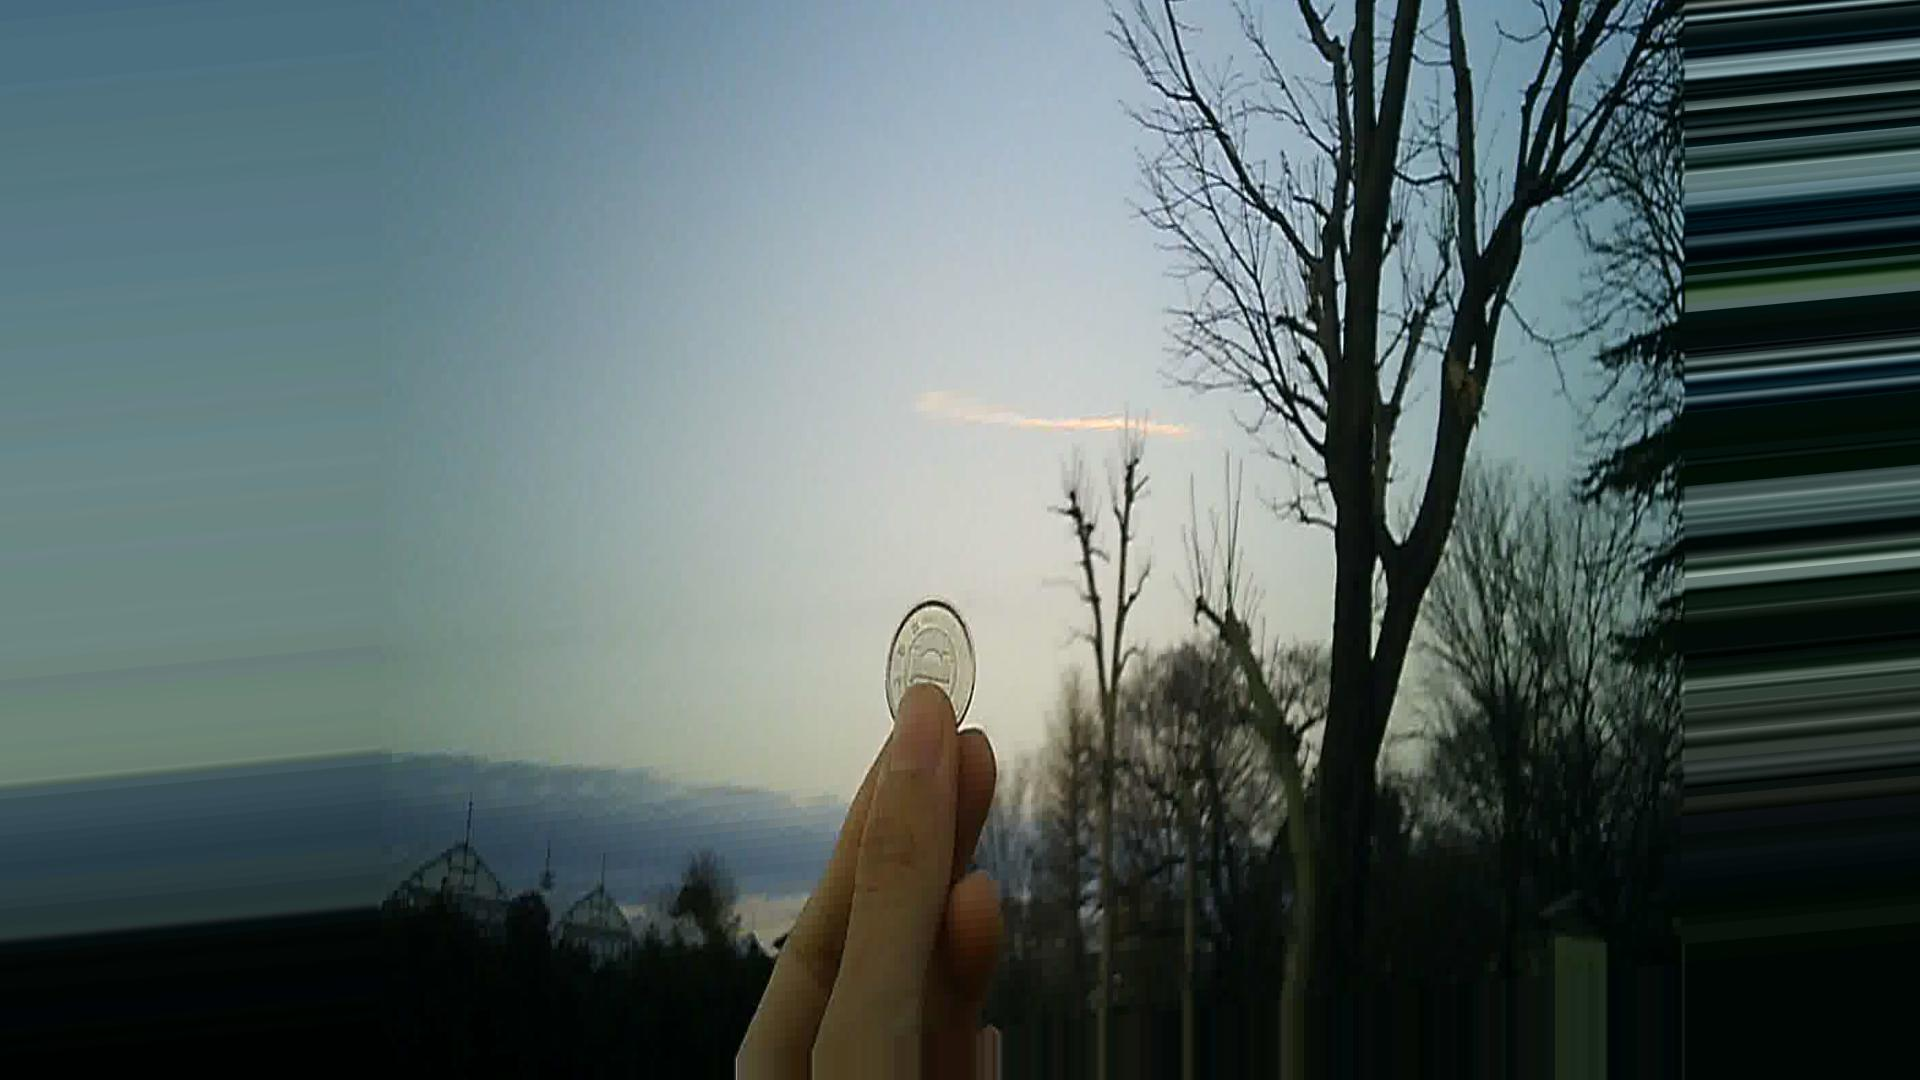1 Yen: (876, 603, 992, 725)
